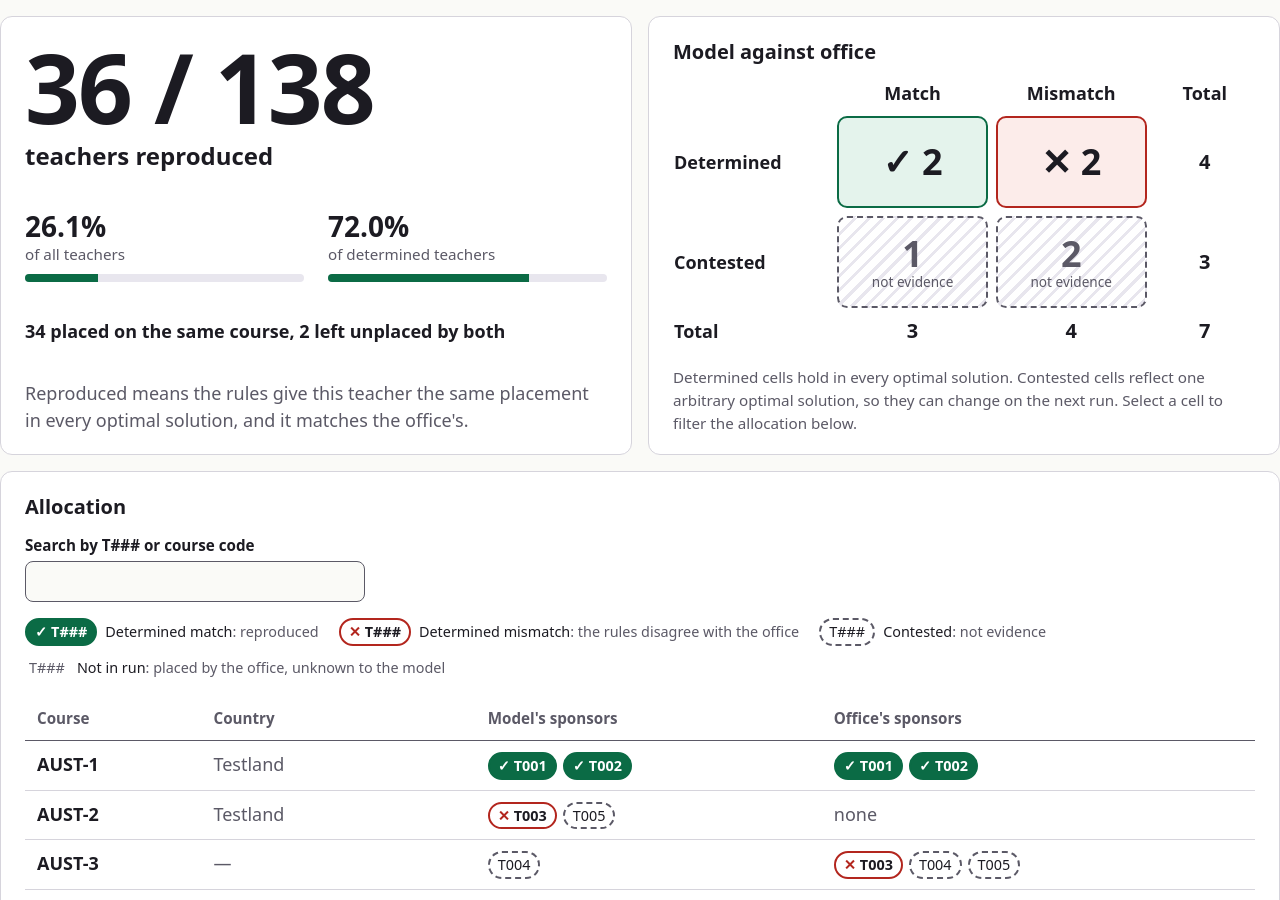
Test: Results search › search with no match shows a clear action
Click the button with aria-label "Contested match" at (913, 262), box [837, 216, 988, 308]
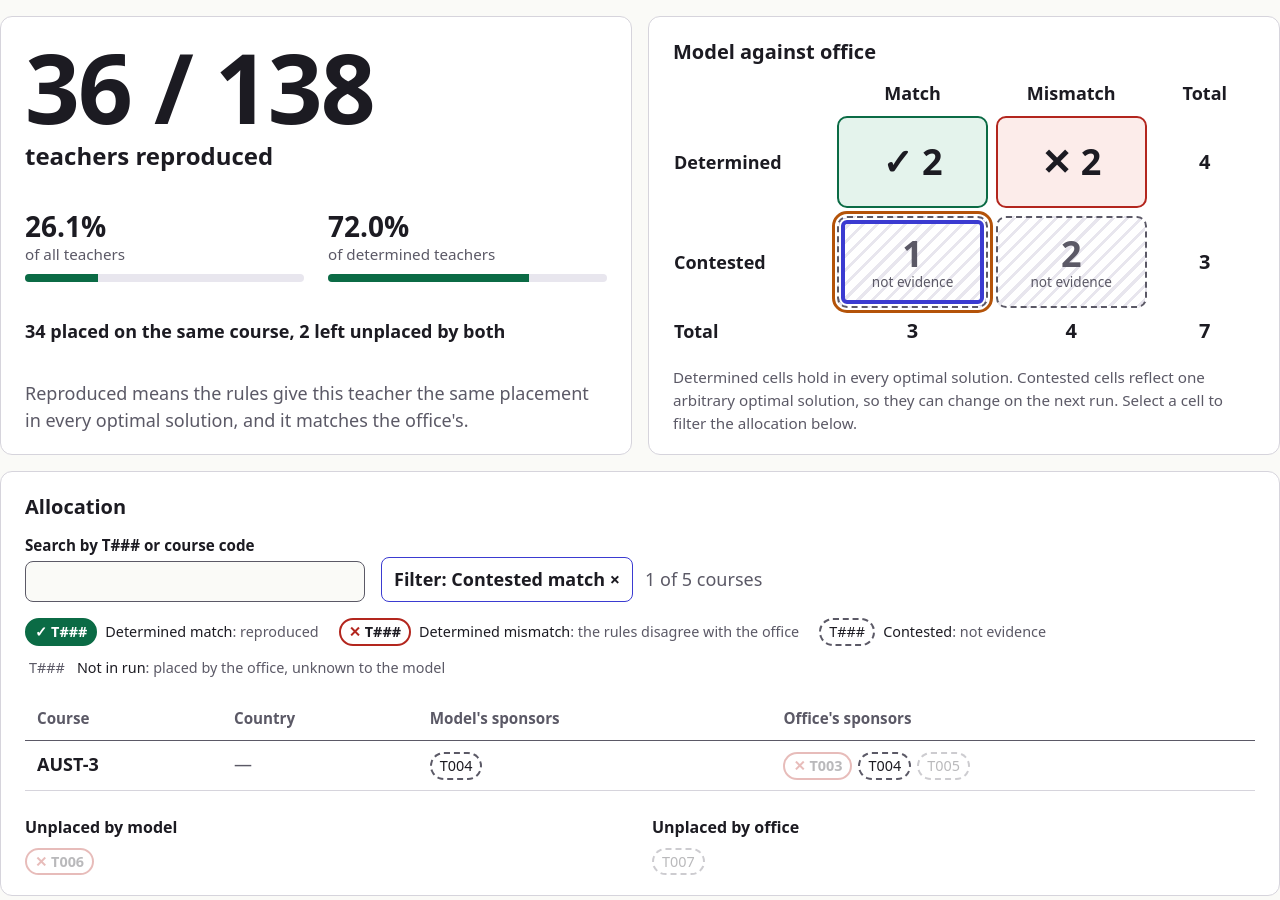
Type "nothing" into the search field labelled "Search by T### or course code" at (195, 582), box [25, 561, 365, 602]
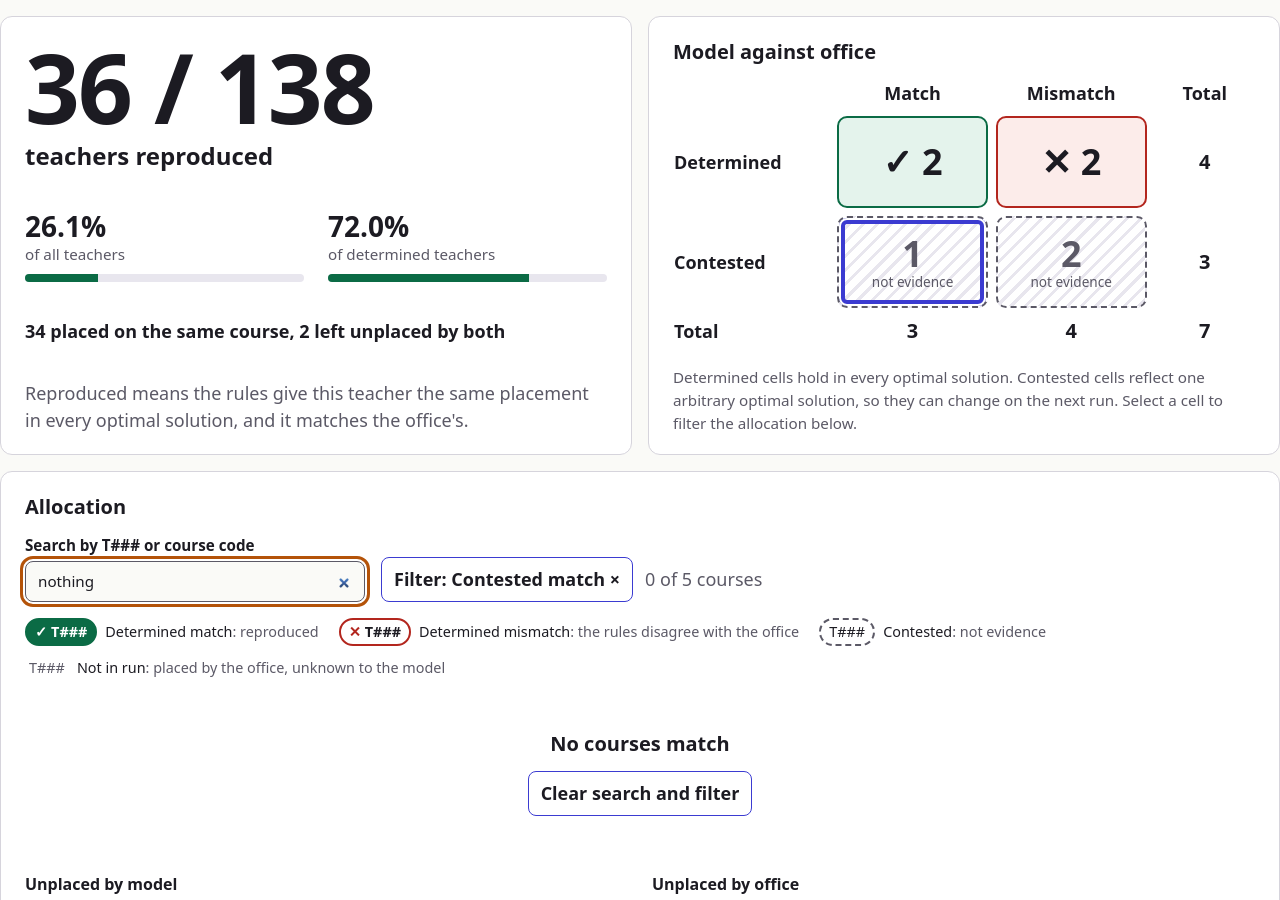
Now the text "No courses match" is shown, box [550, 730, 730, 757]
Click the button "Clear search and filter" at (640, 794), box [528, 771, 752, 816]
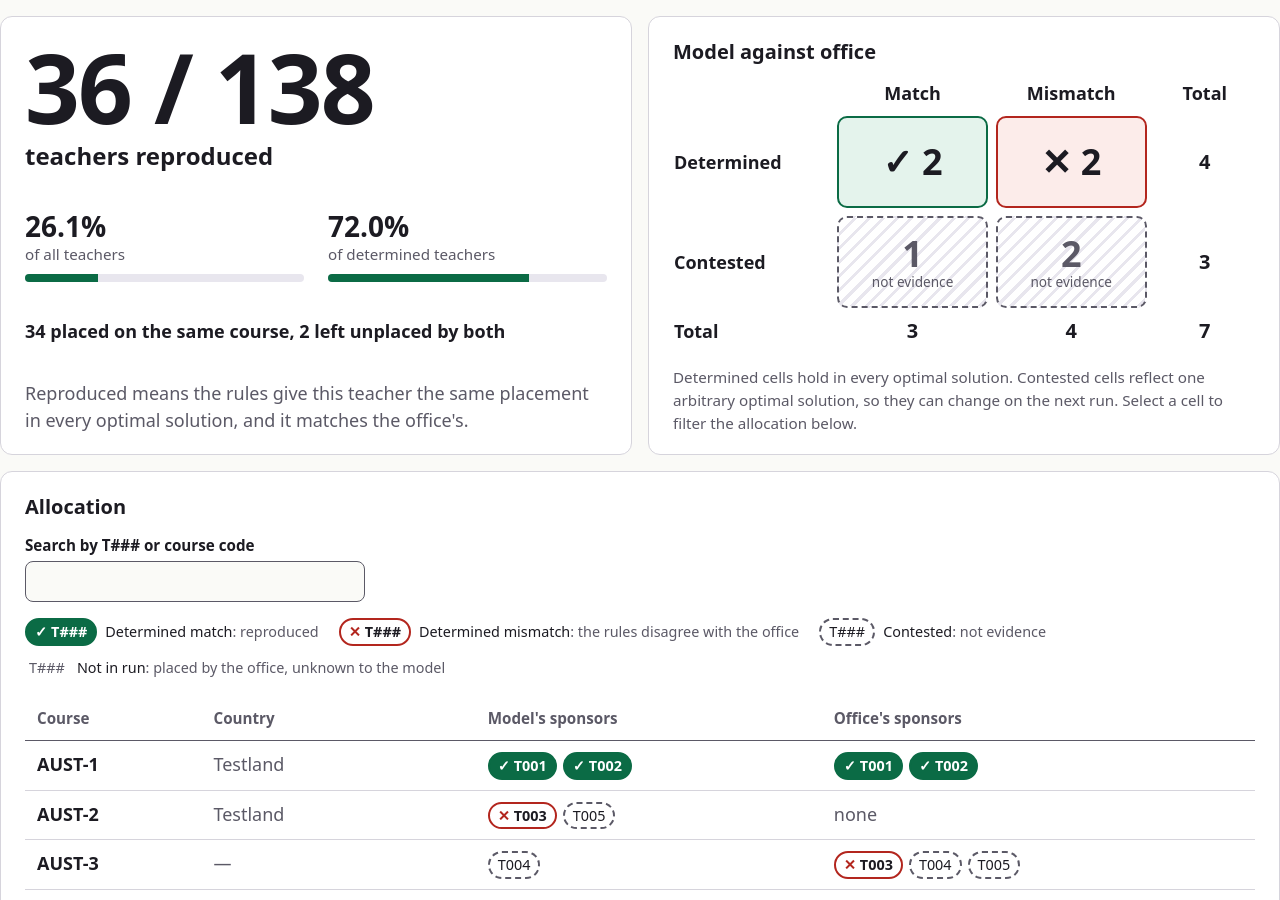
Now the search field labelled "Search by T### or course code" is empty, box [25, 561, 365, 602]
Now the text "No courses match" is gone
